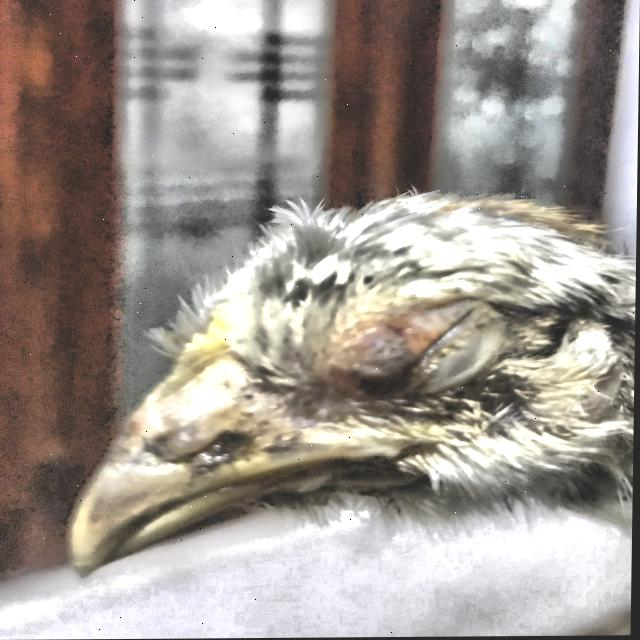Coryza: (0, 165, 638, 628)
